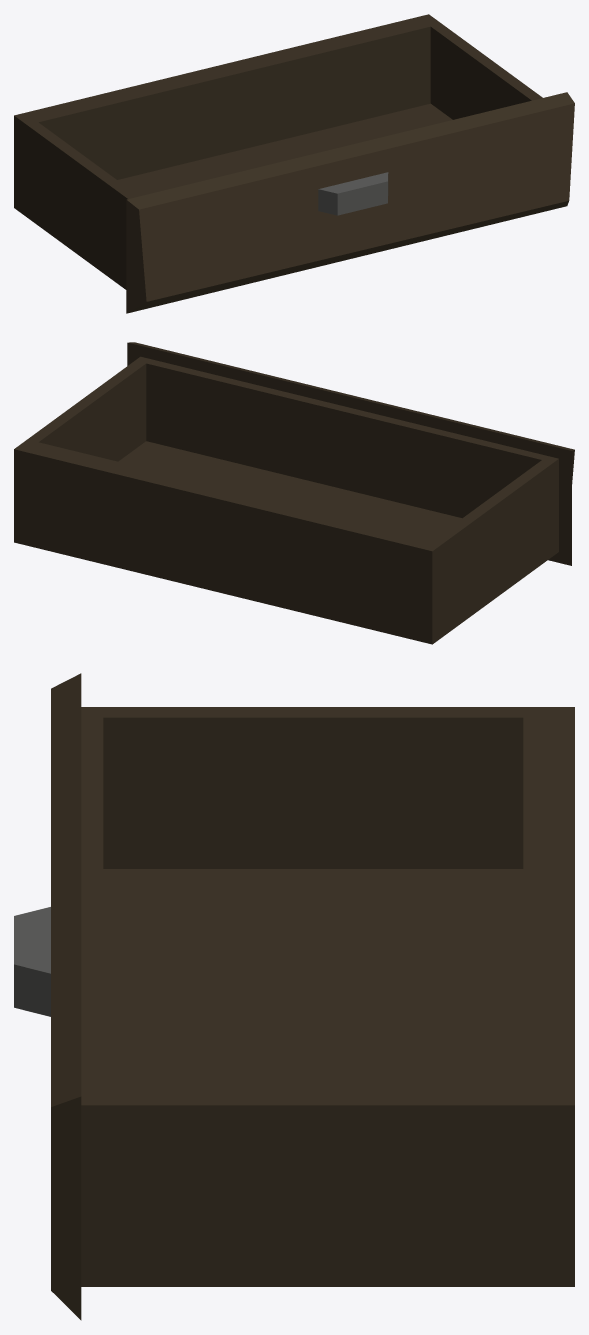
File: SM_Prop_Wardrobe_01_Drawer_02.glb
3 renders of one model, top to bottom at view 1: azimuth 30°, elevation 25°; view 2: azimuth 150°, elevation 25°; view 3: azimuth 270°, elevation 25°, orthographic. The views are drawn at different scales.
Visible parts, largest first — view 1: SM_Prop_Wardrobe_01_Drawer_02; view 2: SM_Prop_Wardrobe_01_Drawer_02; view 3: SM_Prop_Wardrobe_01_Drawer_02.
Boxes of the visible parts, box(x1,y1,x2,y2) form: SM_Prop_Wardrobe_01_Drawer_02: box(14, 14, 574, 313); SM_Prop_Wardrobe_01_Drawer_02: box(14, 342, 574, 644); SM_Prop_Wardrobe_01_Drawer_02: box(14, 673, 574, 1320).
Size of the model in its own units: 1.07 by 0.2641 by 0.5982.
1 material, 1 textured.
